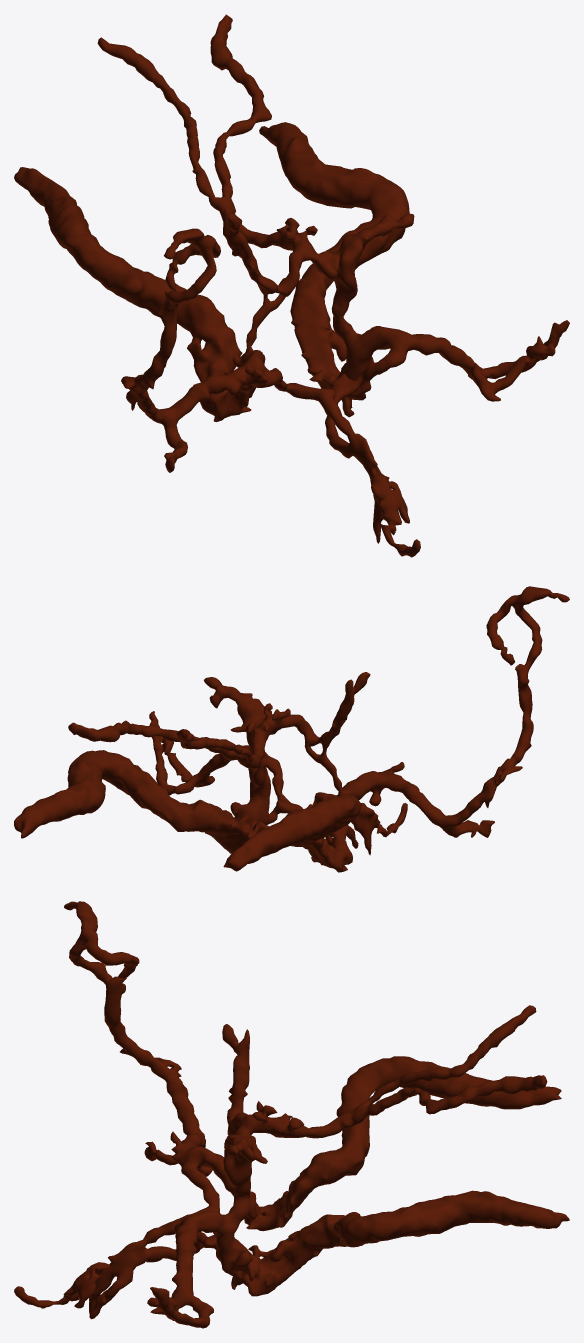
The model's file is Arteries.obj.
3 views of the same model, one above another, from view 1: azimuth 30°, elevation 25°; view 2: azimuth 150°, elevation 25°; view 3: azimuth 270°, elevation 25° (orthographic). The views are drawn at different scales.
Parts seen in each view (by area): view 1: grp1; view 2: grp1; view 3: grp1.
Part boxes in pixels (box(x1,y1,x2,y2)): grp1: box(14, 14, 569, 557); grp1: box(14, 586, 569, 872); grp1: box(14, 901, 569, 1328).
Bounding box in the file's own units: 86.99 × 66.81 × 104.
